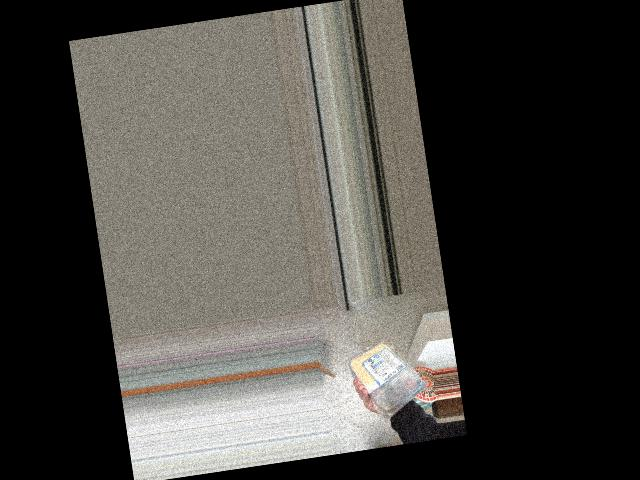cheese: (350, 333, 431, 404)
